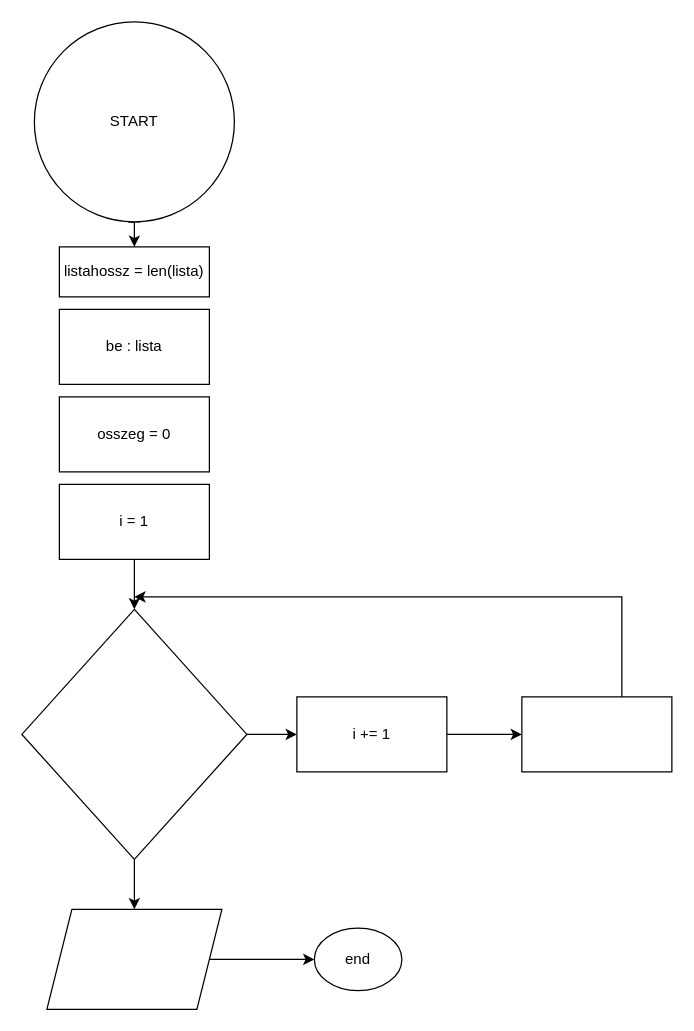
This 694x1031 diagram has some shape labels left out. Each missing label, with the box of its shape:
ki : osszeg: (46, 908, 222, 1009)
osszeg += lista[i]: (521, 696, 672, 772)
while i <= listahossz: (21, 608, 247, 859)
